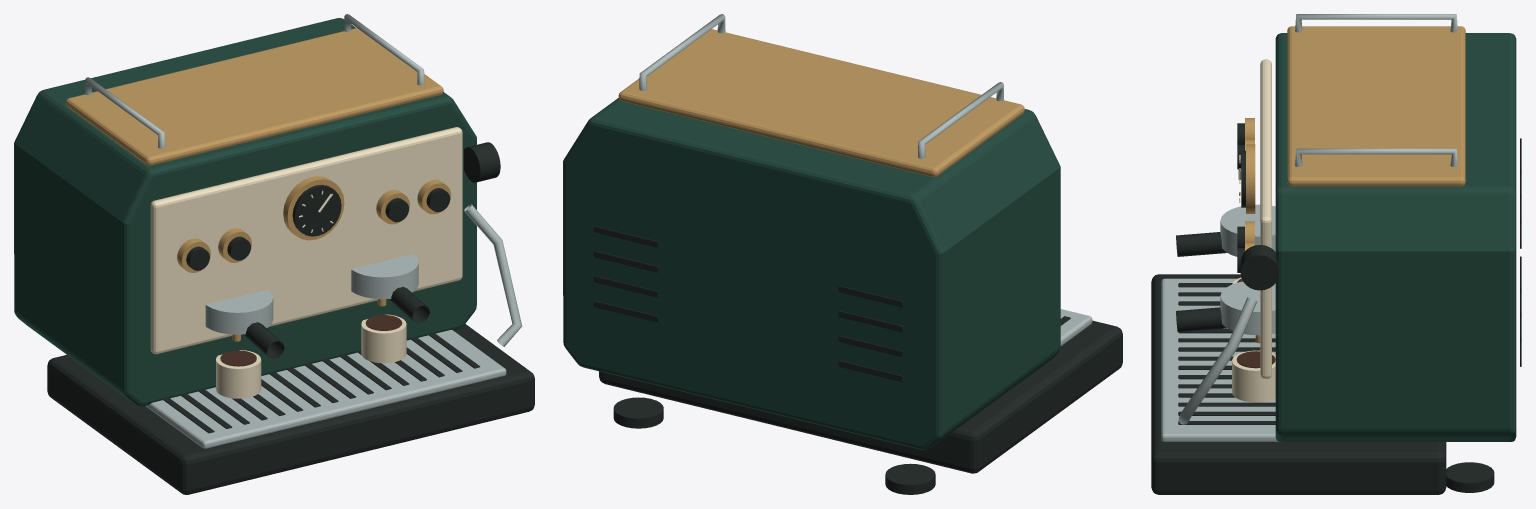
The model's file is cafe-espresso.glb.
3 views of the same model, side by side, from view 1: azimuth 30°, elevation 25°; view 2: azimuth 150°, elevation 25°; view 3: azimuth 270°, elevation 25° (orthographic). The views are drawn at different scales.
Visible parts, largest first — view 1: TC_export_TC_enamel, TC_export_TC_ivory, TC_export_TC_charcoal, TC_export_TC_brass, TC_export_TC_steel, TC_export_TC_coffee; view 2: TC_export_TC_enamel, TC_export_TC_brass, TC_export_TC_charcoal, TC_export_TC_steel; view 3: TC_export_TC_enamel, TC_export_TC_brass, TC_export_TC_charcoal, TC_export_TC_steel, TC_export_TC_ivory, TC_export_TC_coffee.
Part boxes in pixels (x1,y1,x2,y2): TC_export_TC_enamel: [14, 18, 476, 406]; TC_export_TC_ivory: [150, 127, 462, 398]; TC_export_TC_charcoal: [47, 142, 534, 494]; TC_export_TC_brass: [65, 28, 451, 341]; TC_export_TC_steel: [85, 14, 522, 448]; TC_export_TC_coffee: [220, 315, 402, 366]; TC_export_TC_enamel: [563, 98, 1060, 450]; TC_export_TC_brass: [618, 29, 1024, 177]; TC_export_TC_charcoal: [594, 226, 1122, 494]; TC_export_TC_steel: [639, 14, 1092, 345]; TC_export_TC_enamel: [1275, 33, 1516, 441]; TC_export_TC_brass: [1245, 26, 1465, 343]; TC_export_TC_charcoal: [1151, 123, 1521, 494]; TC_export_TC_steel: [1161, 14, 1457, 441]; TC_export_TC_ivory: [1232, 59, 1275, 402]; TC_export_TC_coffee: [1236, 278, 1275, 368].
Bounding box in the file's own units: 0.568 × 0.4764 × 0.477.
